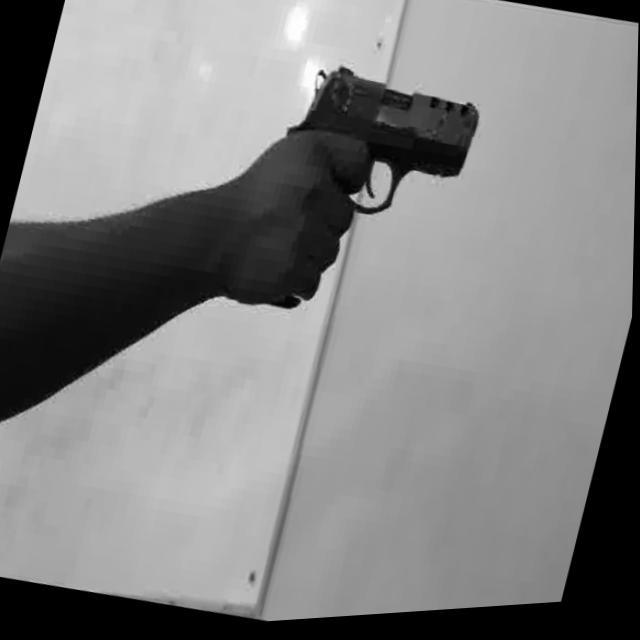weapon: (266, 52, 488, 248)
